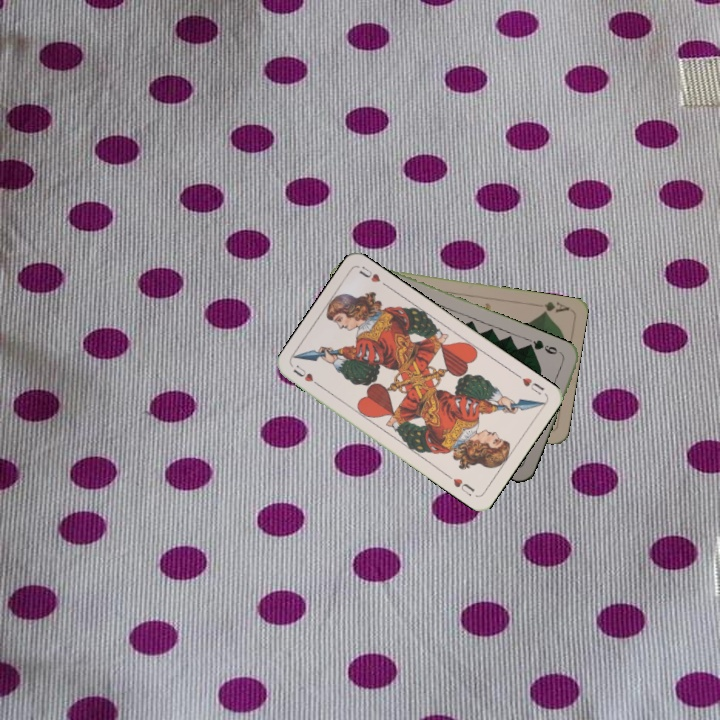G9: (525, 336, 565, 358)
GA: (531, 297, 572, 316)
HU: (289, 361, 324, 390), (512, 370, 547, 398)
